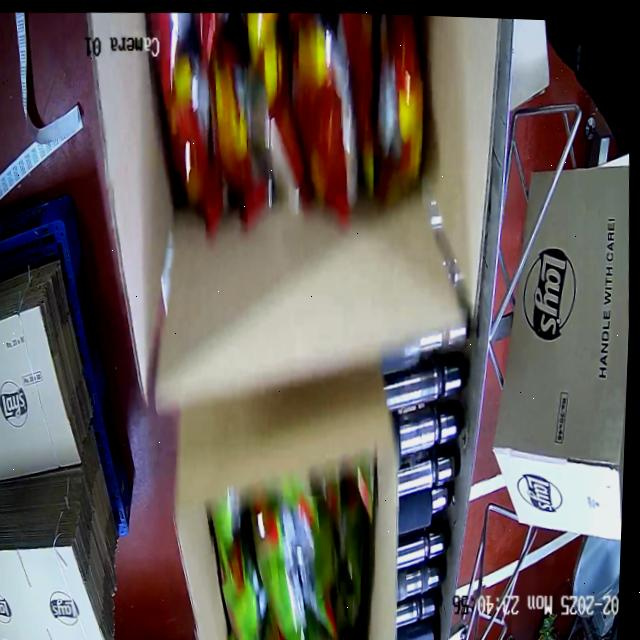MASALA: (144, 6, 435, 247)
YOGURT_HERB: (209, 481, 367, 640)
